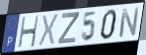0: (100, 8, 119, 41)
5: (79, 10, 98, 43)
H: (17, 14, 40, 50)
N: (118, 6, 140, 39)
X: (37, 12, 60, 47)
Z: (56, 12, 80, 46)
